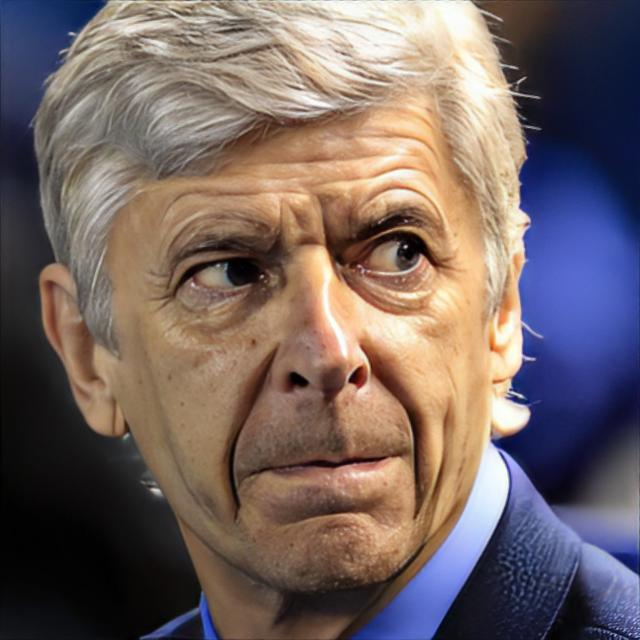anger: (110, 94, 492, 596)
